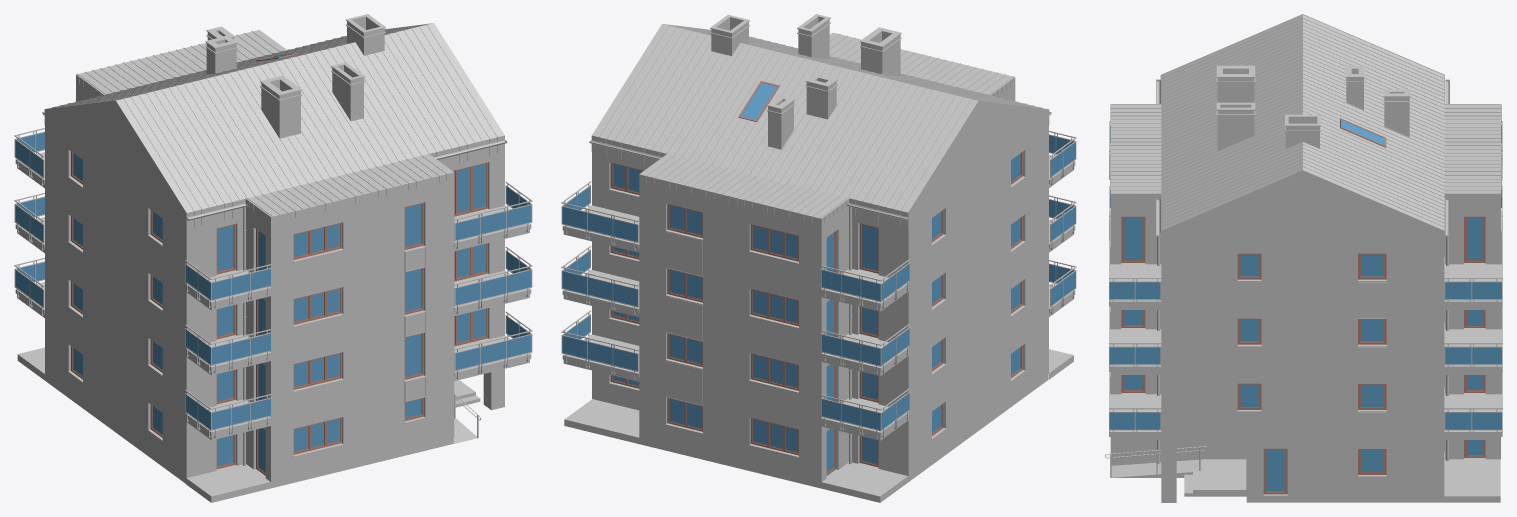
3 renders of one model, left to right at view 1: azimuth 30°, elevation 25°; view 2: azimuth 150°, elevation 25°; view 3: azimuth 270°, elevation 25°, orthographic.
Visible parts, largest first — view 1: building_04; view 2: building_04; view 3: building_04.
Part boxes in pixels (x1,y1,x2,y2): building_04: (14,14,532,502); building_04: (561,14,1076,502); building_04: (1105,14,1502,502).
Size of the model in its own units: 6.12 by 6.83 by 6.55.
